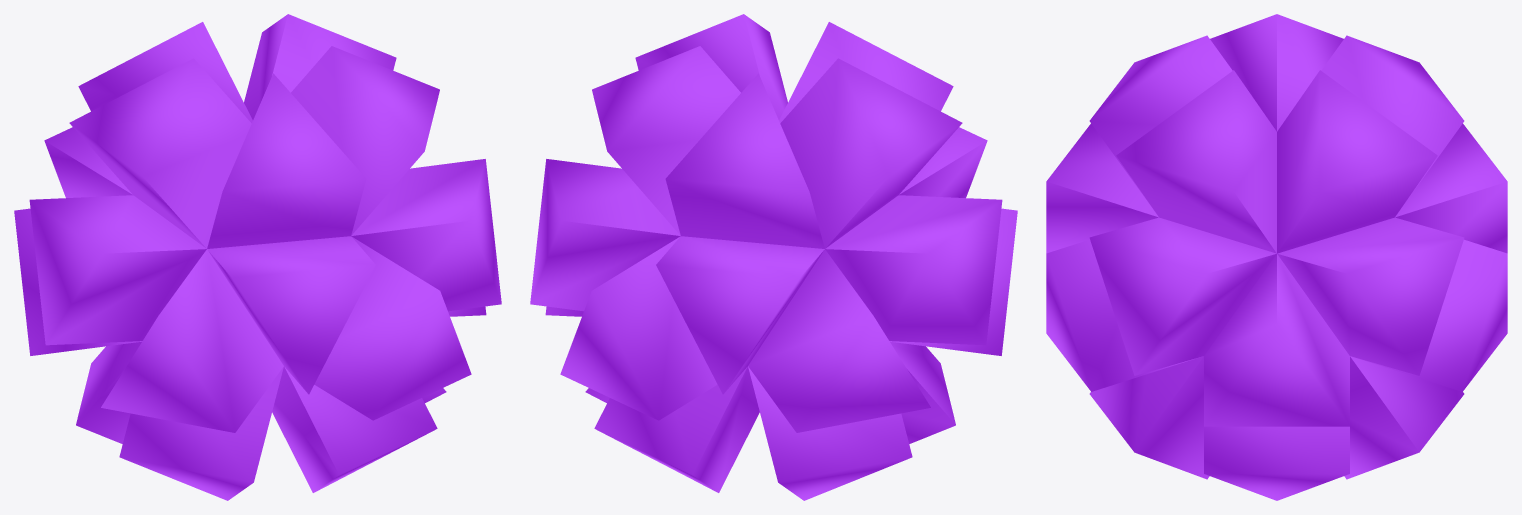
Rendered from porb.glb.
3 views of the same model, side by side, from view 1: azimuth 30°, elevation 25°; view 2: azimuth 150°, elevation 25°; view 3: azimuth 270°, elevation 25° (orthographic).
Parts seen in each view (by area): view 1: Icosphere; view 2: Icosphere; view 3: Icosphere.
Part boxes in pixels (box(x1,y1,x2,y2)): Icosphere: box(14, 14, 501, 500); Icosphere: box(530, 14, 1017, 500); Icosphere: box(1046, 14, 1507, 500).
Bounding box in the file's own units: 0.7278 × 0.7038 × 0.6922.
